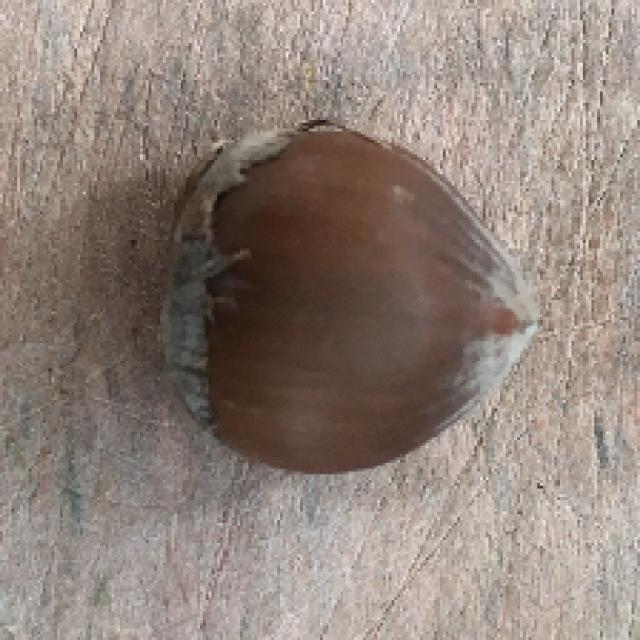damagedHazelnut: (140, 121, 536, 478)
